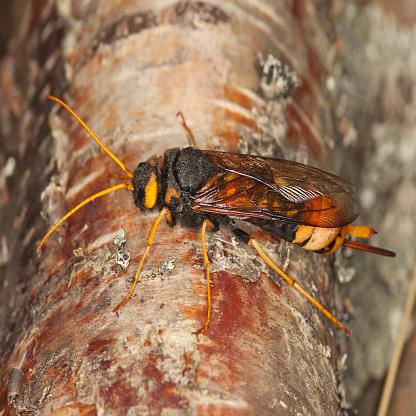sawfly: (33, 88, 401, 333)
